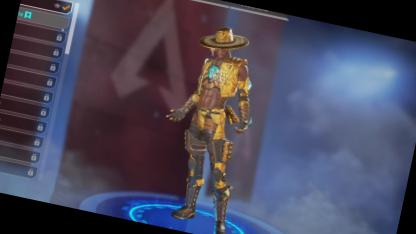Target: (164, 25, 260, 204)
